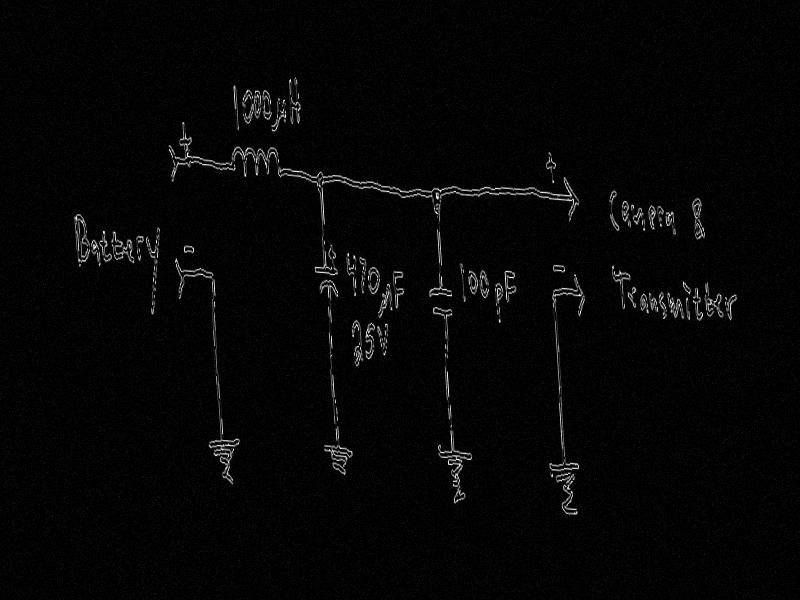-: (182, 241, 195, 257), (552, 261, 566, 274)
0: (241, 87, 255, 127), (366, 264, 381, 301), (477, 268, 491, 301), (261, 86, 273, 121), (252, 86, 263, 121), (467, 268, 479, 297)
1: (231, 81, 241, 132), (459, 260, 467, 305)
2: (350, 317, 364, 370)
4: (345, 247, 359, 299)
5: (363, 320, 378, 363)
7: (358, 253, 369, 297)
8: (691, 196, 707, 245)
9: (620, 197, 632, 231), (665, 208, 677, 241)
F: (392, 268, 406, 312), (504, 266, 518, 306)
H: (286, 73, 303, 126)
V: (376, 321, 391, 357), (723, 290, 739, 323), (626, 284, 638, 312)
m: (666, 289, 686, 323), (630, 201, 647, 233)
n: (648, 290, 659, 313)
p: (493, 280, 506, 326)
u: (268, 93, 288, 135), (375, 282, 394, 321)
